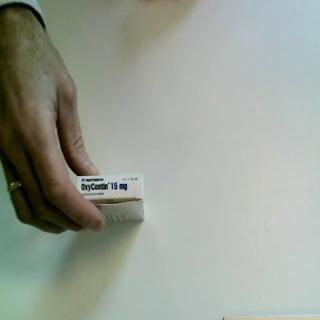oxycontin15mg: (76, 172, 146, 225)
